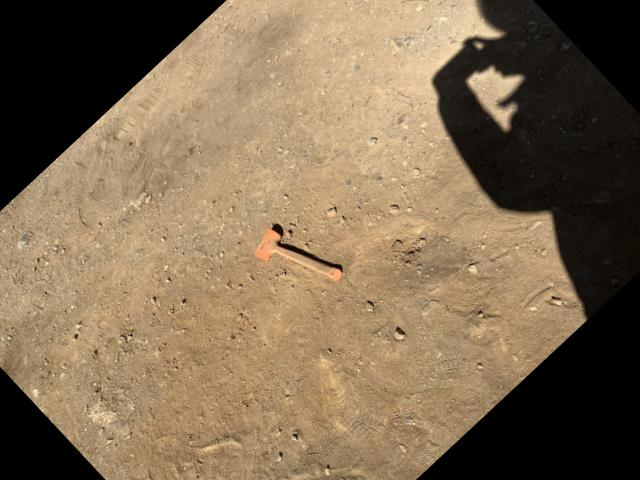hammer: (247, 209, 346, 310)
